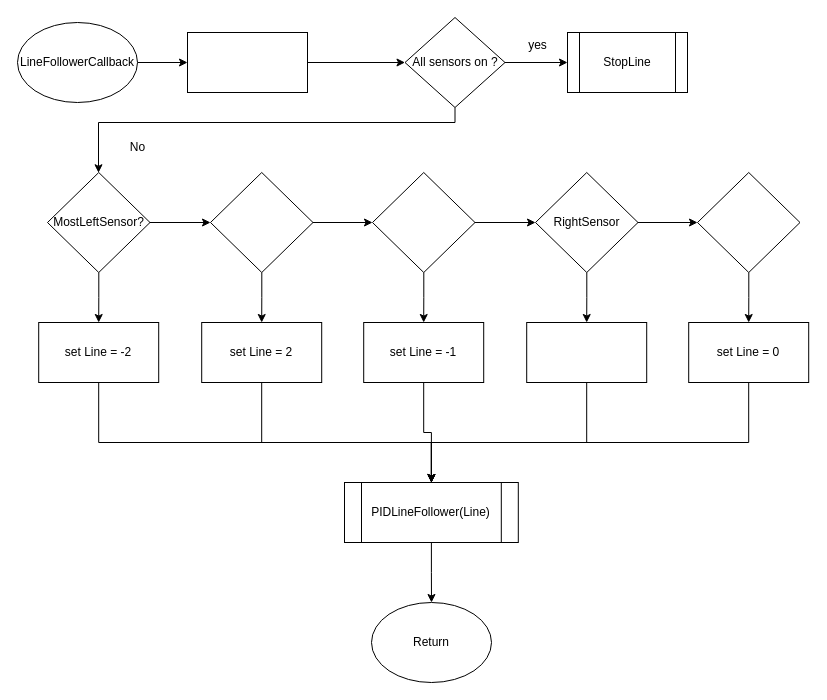
This 827x700 diagram has some shape labels left out. The centre of each missing label's shape, as x and y in pixels:
"CenterSensor" belongs at point 748,222.
"get LineSensorsState" belongs at point 247,62.
"LeftSensor" belongs at point 423,222.
"MostRightSensor" belongs at point 261,222.
"set Line = 1" belongs at point 586,352.
